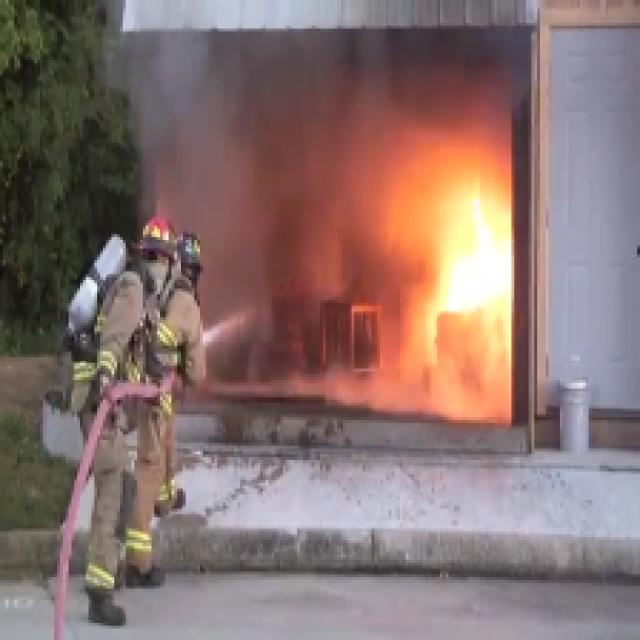fire: (434, 191, 525, 344)
smoke: (250, 47, 373, 281), (127, 42, 249, 220)
